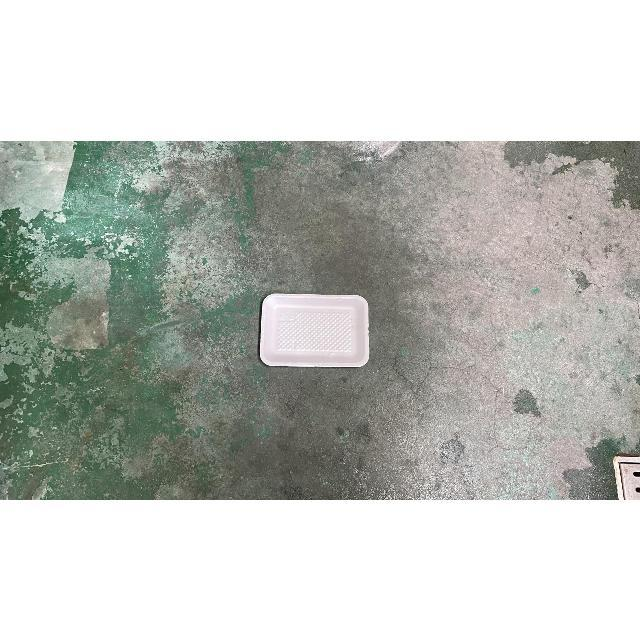Plastico descartable: (259, 294, 371, 370)
